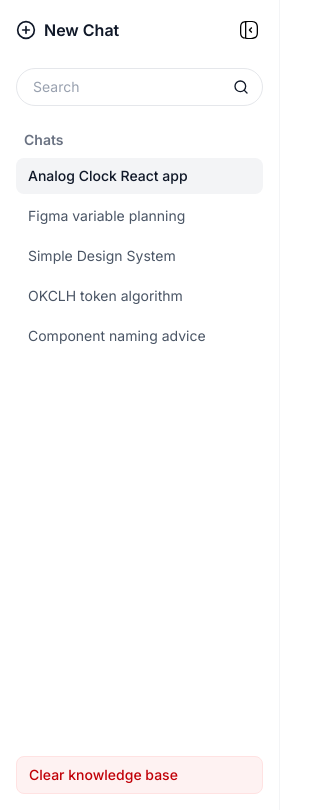
Test: ChatSidebar › renders and allows searching chats
Check: the button "New Chat" is shown, box x1=16 y1=18 x2=119 y2=42
Check: the text "Analog Clock React app" is shown, box x1=28 y1=167 x2=188 y2=184
Type "Clock" into the field with placeholder "Search" at (140, 87), box x1=16 y1=68 x2=263 y2=106
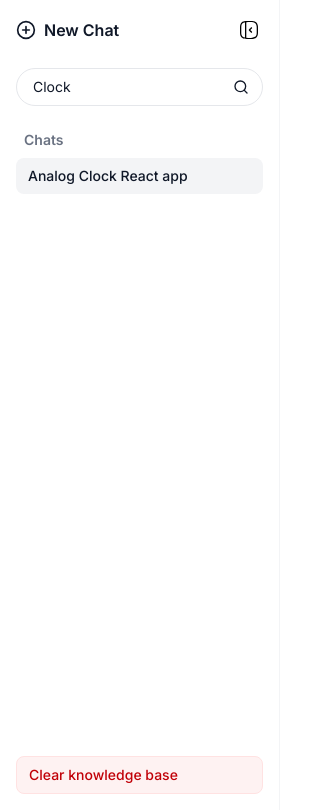
Check: the text "Analog Clock React app" is shown, box x1=28 y1=167 x2=188 y2=184
Check: the button "Simple Design System" is gone
